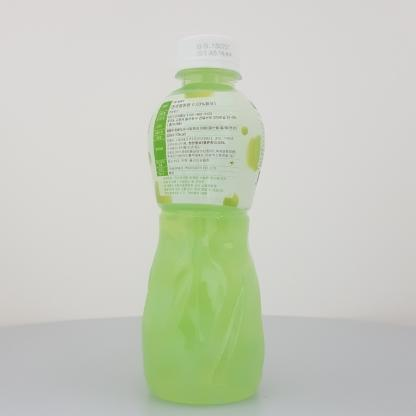-----------: (142, 34, 266, 404)
